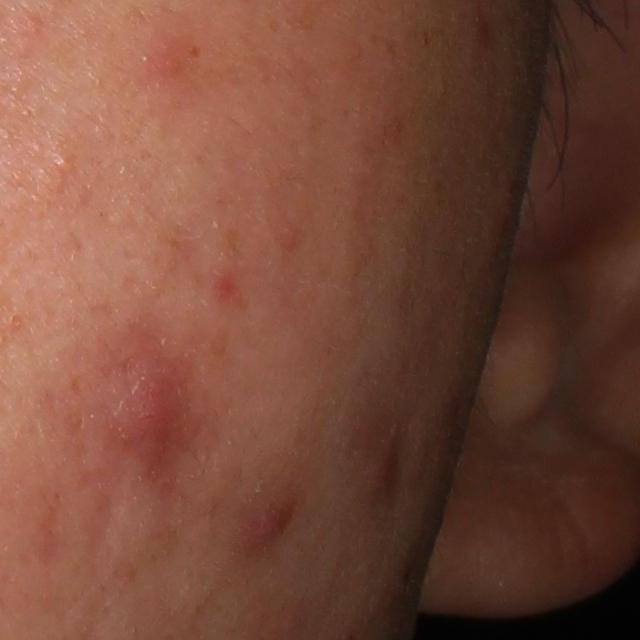papule: (101, 372, 187, 454), (228, 478, 300, 556), (366, 439, 399, 496)
